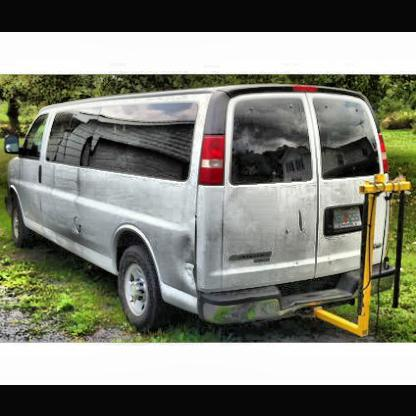Chevrolet Express Van 2007: (4, 82, 414, 340)
